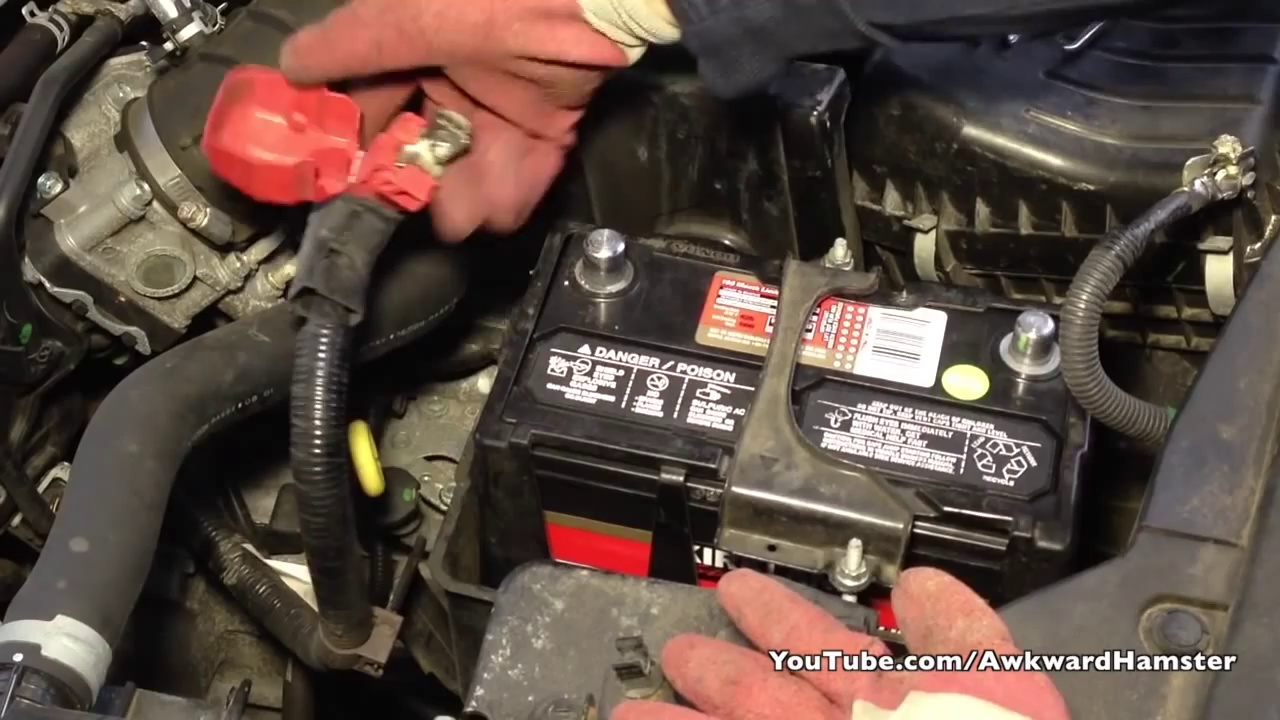battery: (501, 246, 1080, 546)
neg_disconnected: (976, 278, 1092, 390)
pos_disconnected: (253, 62, 647, 329)
